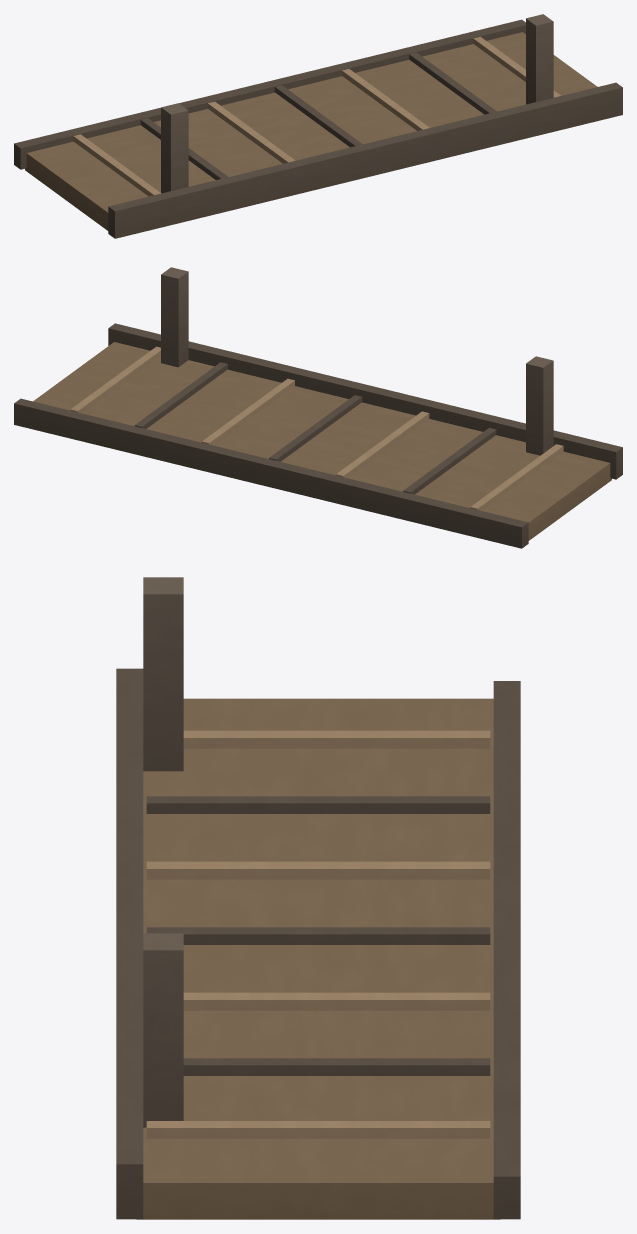
Rendered from production_boardwalk.glb.
3 views of the same model, one above another, from view 1: azimuth 30°, elevation 25°; view 2: azimuth 150°, elevation 25°; view 3: azimuth 270°, elevation 25° (orthographic). The views are drawn at different scales.
Parts seen in each view (by area): view 1: production_boardwalk; view 2: production_boardwalk; view 3: production_boardwalk.
Part boxes in pixels (x1,y1,x2,y2): production_boardwalk: [14, 14, 622, 238]; production_boardwalk: [14, 267, 622, 548]; production_boardwalk: [116, 577, 520, 1219].
Size of the model in its own units: 3.48 by 0.7 by 1.2.
Materials: 1 (1 with a texture image).
